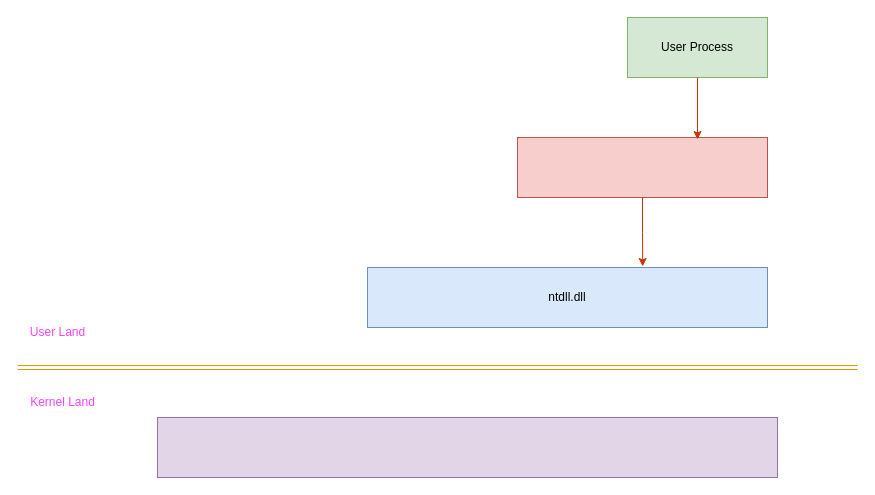
The diagram is 875 pixels wide and 495 high, and some of its shapes have lost their labels. The shapes that lost their labels are listed below. From the top down, each one's centre as x and y in pixels, then its label:
At point (642, 167): "SubSystem DLLs".
At point (467, 447): "Kernel".
